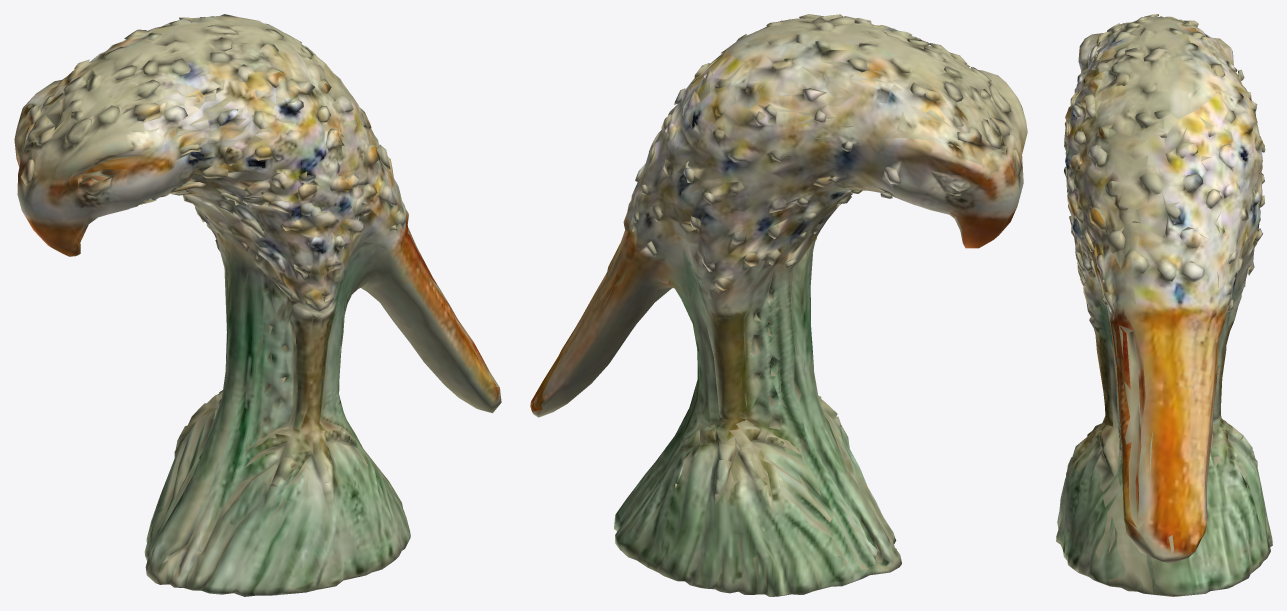
File: parrot-20177427-2.glb
3 views of the same model, side by side, from view 1: azimuth 30°, elevation 25°; view 2: azimuth 150°, elevation 25°; view 3: azimuth 270°, elevation 25° (orthographic). The views are drawn at different scales.
Parts seen in each view (by area): view 1: Mesh; view 2: Mesh; view 3: Mesh.
Part boxes in pixels (x1,y1,x2,y2): Mesh: [14, 14, 501, 596]; Mesh: [530, 14, 1027, 596]; Mesh: [1056, 14, 1272, 596].
Bounding box in the file's own units: 0.1533 × 0.1651 × 0.0688.
Materials: 1 (1 with a texture image).
